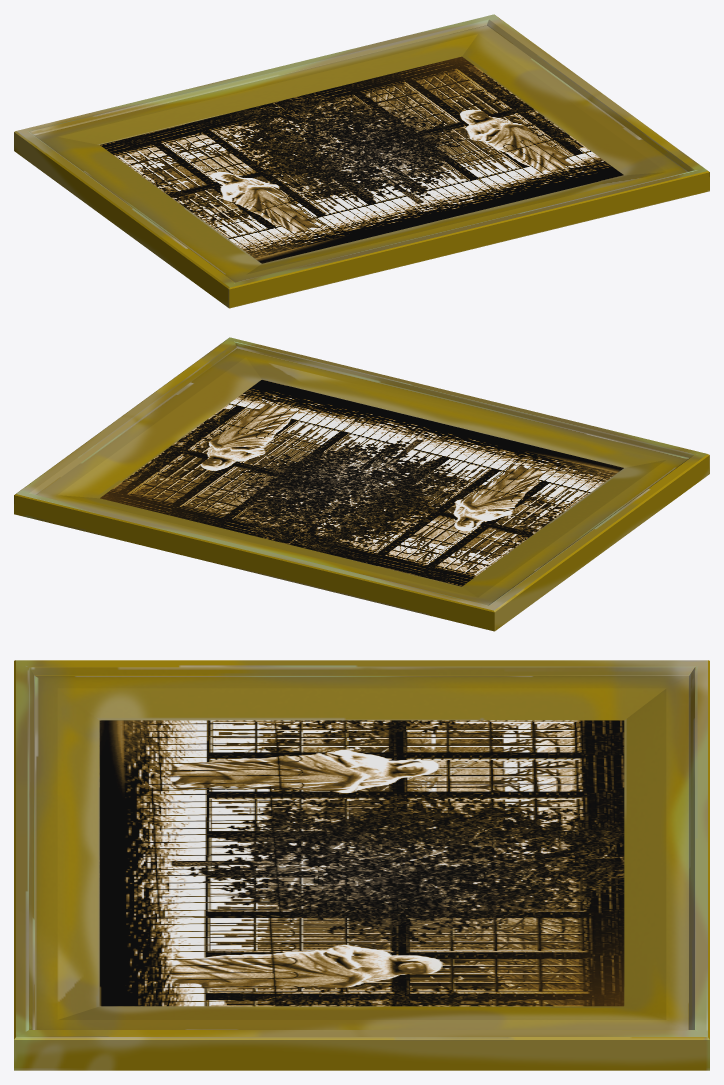
3 renders of one model, top to bottom at view 1: azimuth 30°, elevation 25°; view 2: azimuth 150°, elevation 25°; view 3: azimuth 270°, elevation 25°, orthographic. The views are drawn at different scales.
Visible parts, largest first — view 1: Plane.002, Plane.003; view 2: Plane.002, Plane.003; view 3: Plane.003, Plane.002.
Boxes of the visible parts, left/top/right/bottom form: Plane.002: left=14, top=14, right=709, bottom=308; Plane.003: left=100, top=56, right=623, bottom=263; Plane.002: left=14, top=337, right=709, bottom=631; Plane.003: left=100, top=379, right=623, bottom=586; Plane.003: left=99, top=720, right=624, bottom=1006; Plane.002: left=14, top=660, right=709, bottom=1070.
Size of the model in its own units: 207 by 8.27 by 160.
